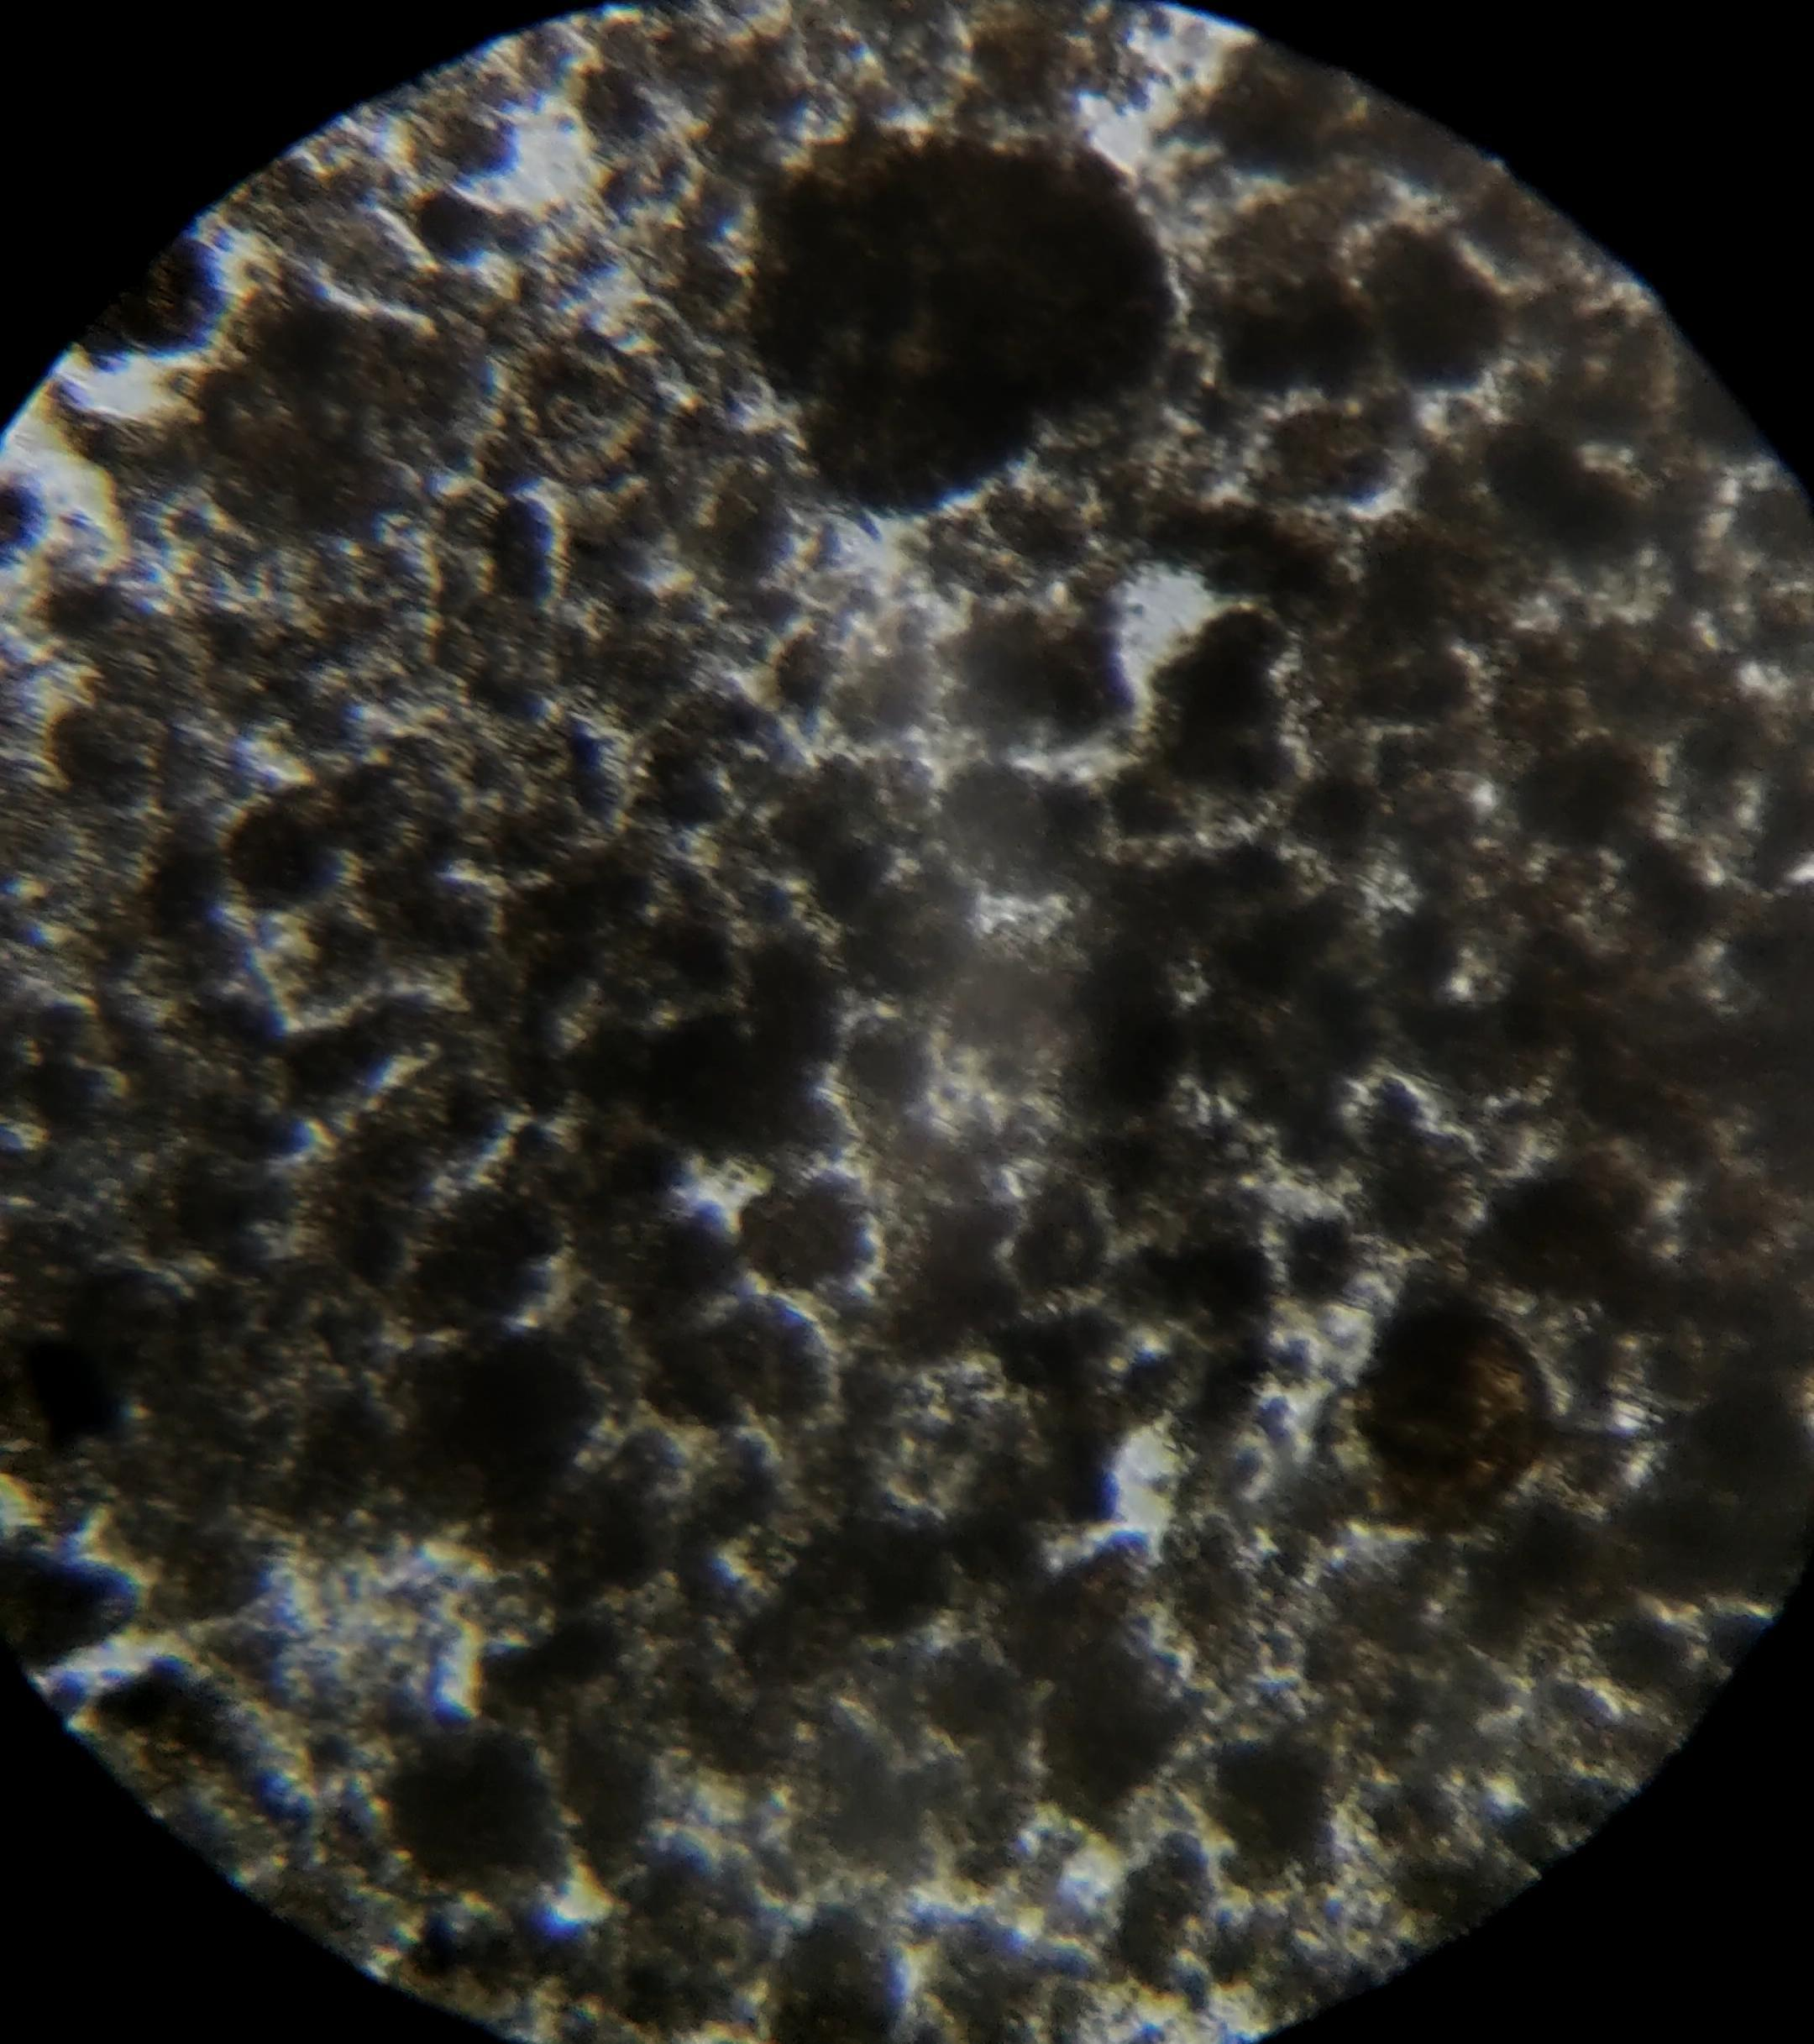Arcella: (1357, 1308, 1546, 1531), (511, 336, 655, 487)
